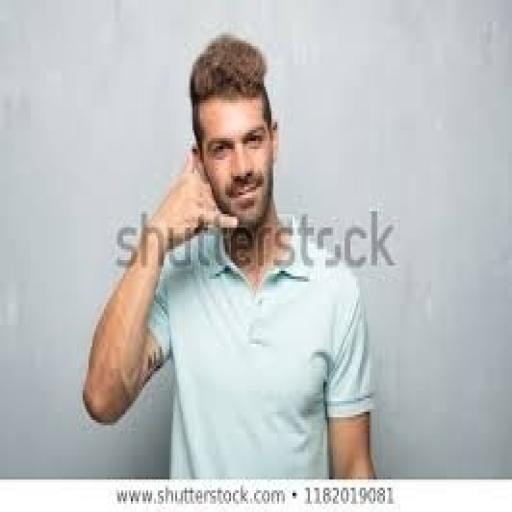calling: (79, 32, 377, 480)
